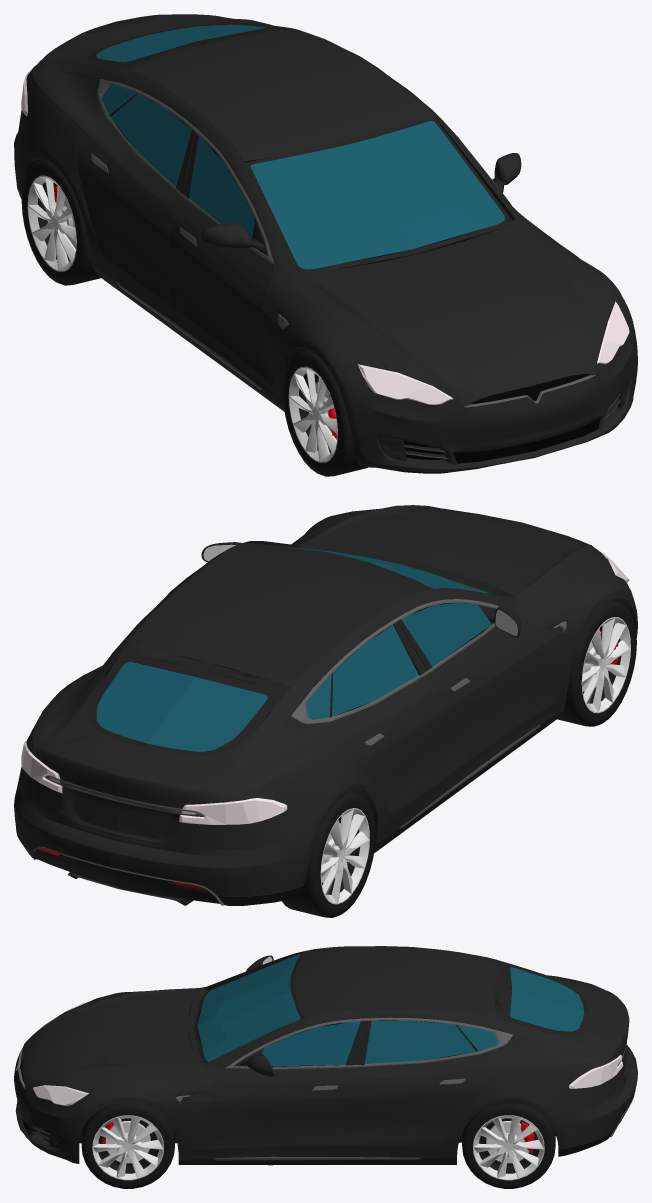
Rendered from black.gltf.
3 renders of one model, top to bottom at view 1: azimuth 30°, elevation 25°; view 2: azimuth 150°, elevation 25°; view 3: azimuth 270°, elevation 25°, orthographic. The views are drawn at different scales.
Visible parts, largest first — view 1: object.005, object.008, wheel.001, wheel.002, object.007, object.004, object.006, object.010, object.013; view 2: object.005, object.008, object.004, wheel.002, wheel.001, object.007, object.006, object.010, object.016; view 3: object.005, object.008, wheel, wheel.003, object.006, object.004, object.007, object.010.
Part boxes in pixels (bbox=[...]): object.005: bbox=[14, 14, 637, 471]; object.008: bbox=[96, 24, 504, 269]; wheel.001: bbox=[282, 350, 368, 476]; wheel.002: bbox=[21, 159, 100, 285]; object.007: bbox=[23, 23, 604, 472]; object.004: bbox=[26, 28, 628, 473]; object.006: bbox=[91, 79, 620, 458]; object.010: bbox=[21, 25, 629, 404]; object.013: bbox=[403, 374, 600, 463]; object.005: bbox=[14, 505, 637, 905]; object.008: bbox=[96, 545, 491, 751]; object.004: bbox=[34, 542, 626, 905]; wheel.002: bbox=[282, 791, 375, 917]; wheel.001: bbox=[557, 600, 636, 726]; object.007: bbox=[31, 545, 636, 888]; object.006: bbox=[33, 599, 566, 905]; object.010: bbox=[21, 552, 629, 824]; object.016: bbox=[203, 544, 517, 635]; object.005: bbox=[14, 946, 637, 1165]; object.008: bbox=[197, 954, 584, 1066]; wheel: bbox=[81, 1102, 174, 1188]; wheel.003: bbox=[462, 1103, 555, 1188]; object.006: bbox=[15, 1017, 634, 1160]; object.004: bbox=[32, 952, 633, 1163]; object.007: bbox=[21, 952, 605, 1164]; object.010: bbox=[33, 1002, 623, 1105].
Bounding box in the file's own units: 2.34 × 1.58 × 5.46.
